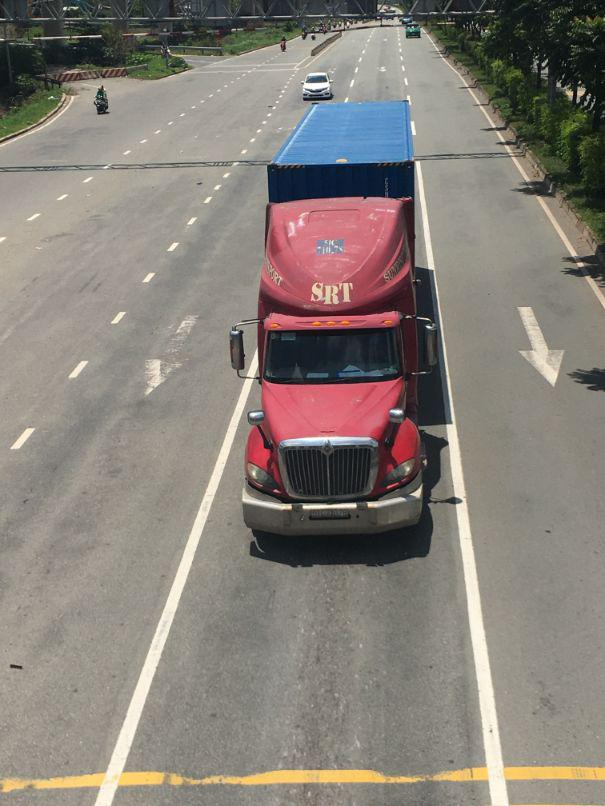car: (303, 71, 334, 102), (406, 24, 424, 39)
truck: (251, 94, 441, 534)
